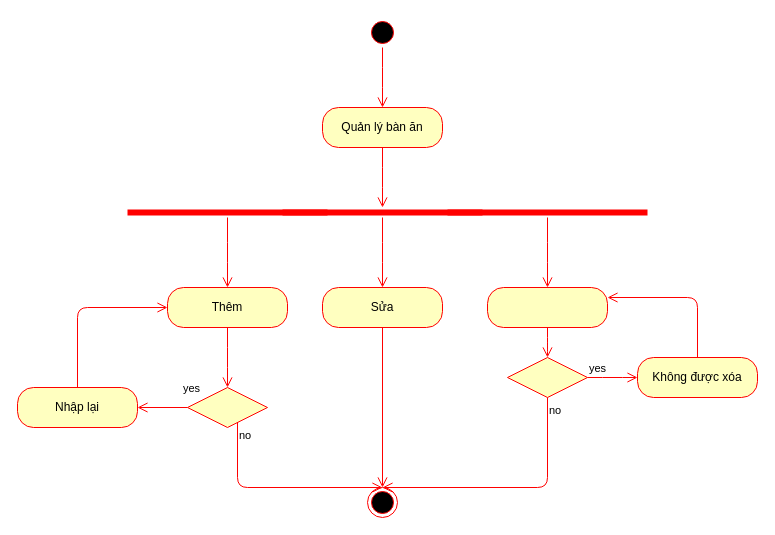
This 775x535 diagram has some shape labels left out. Each missing label, with the box of its shape:
Có quan hệ với hóa đơn: (506, 356, 588, 398)
Kiểm tra tồn tại: (186, 386, 268, 428)
Xóa: (486, 286, 608, 328)
